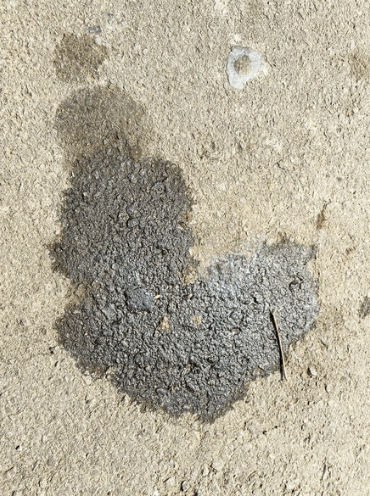oil: (24, 14, 161, 212)
